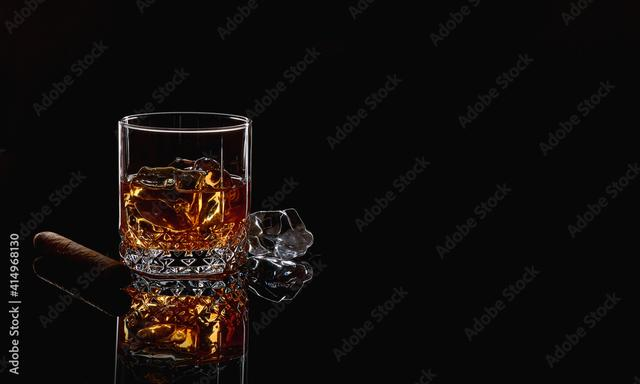Cigar: (31, 229, 123, 276)
